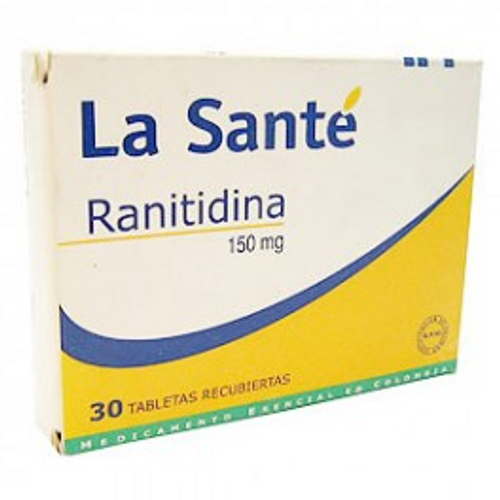LaSante: (53, 57, 483, 451)
